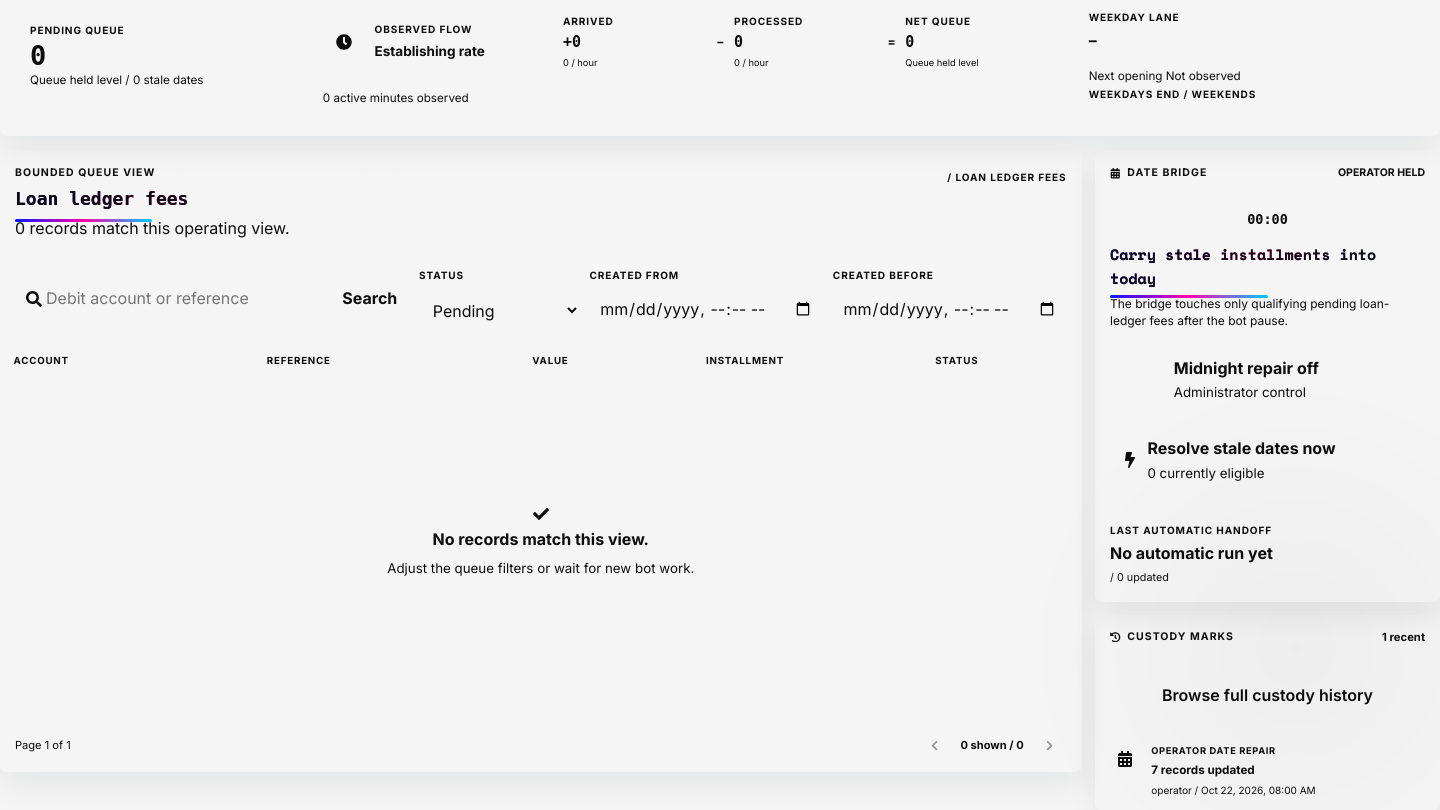
Test case: expanded custody replaces the recent preview instead of duplicating it
(page scrolled)
Check: the text "7 records updated" is shown, box [1151, 763, 1255, 777]
Click the button "Browse full custody history" at x=1268, y=696, box [1109, 673, 1426, 718]
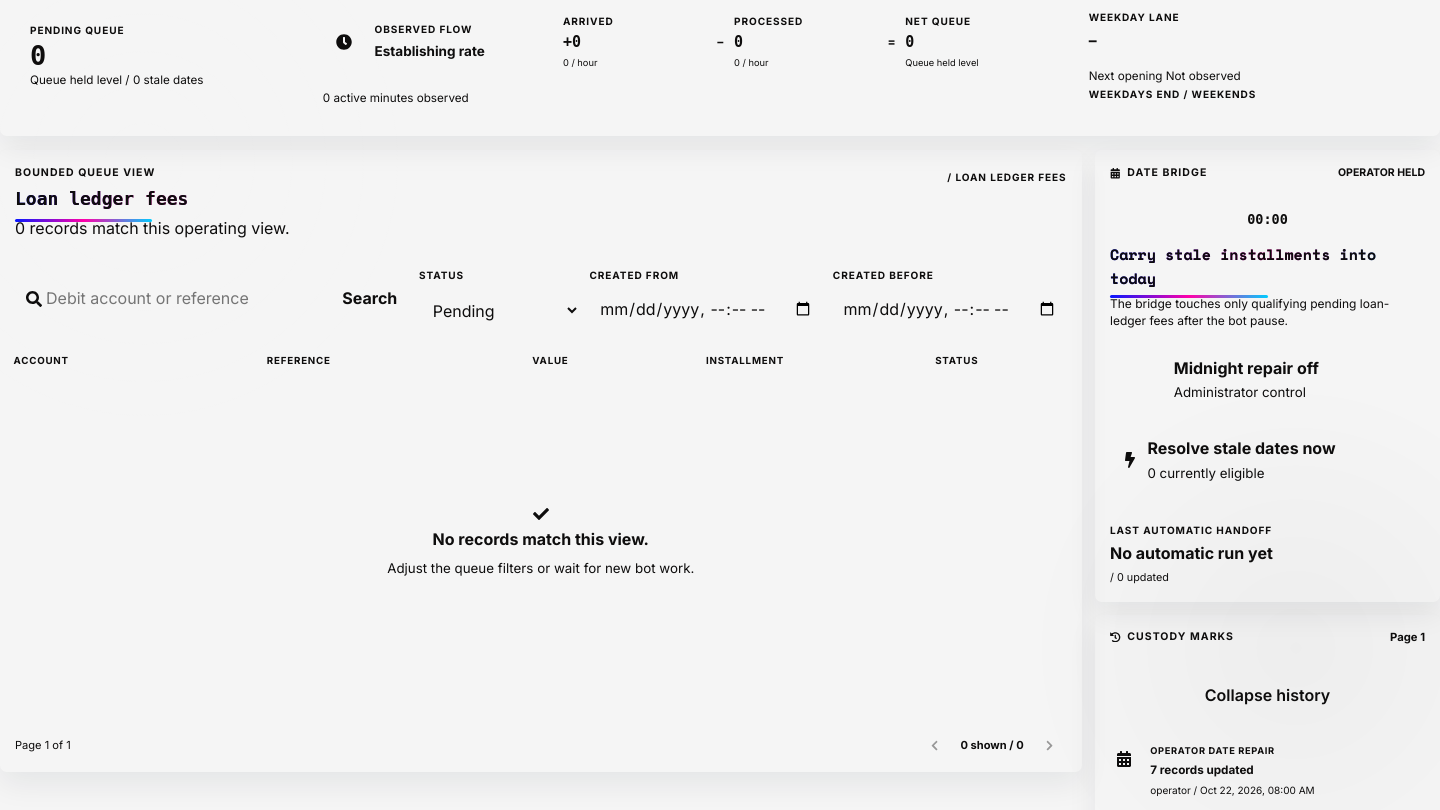
Check: the text "7 records updated" is shown once, box [1150, 763, 1254, 777]
Check: the button "Collapse history" is shown, box [1109, 673, 1426, 718]
